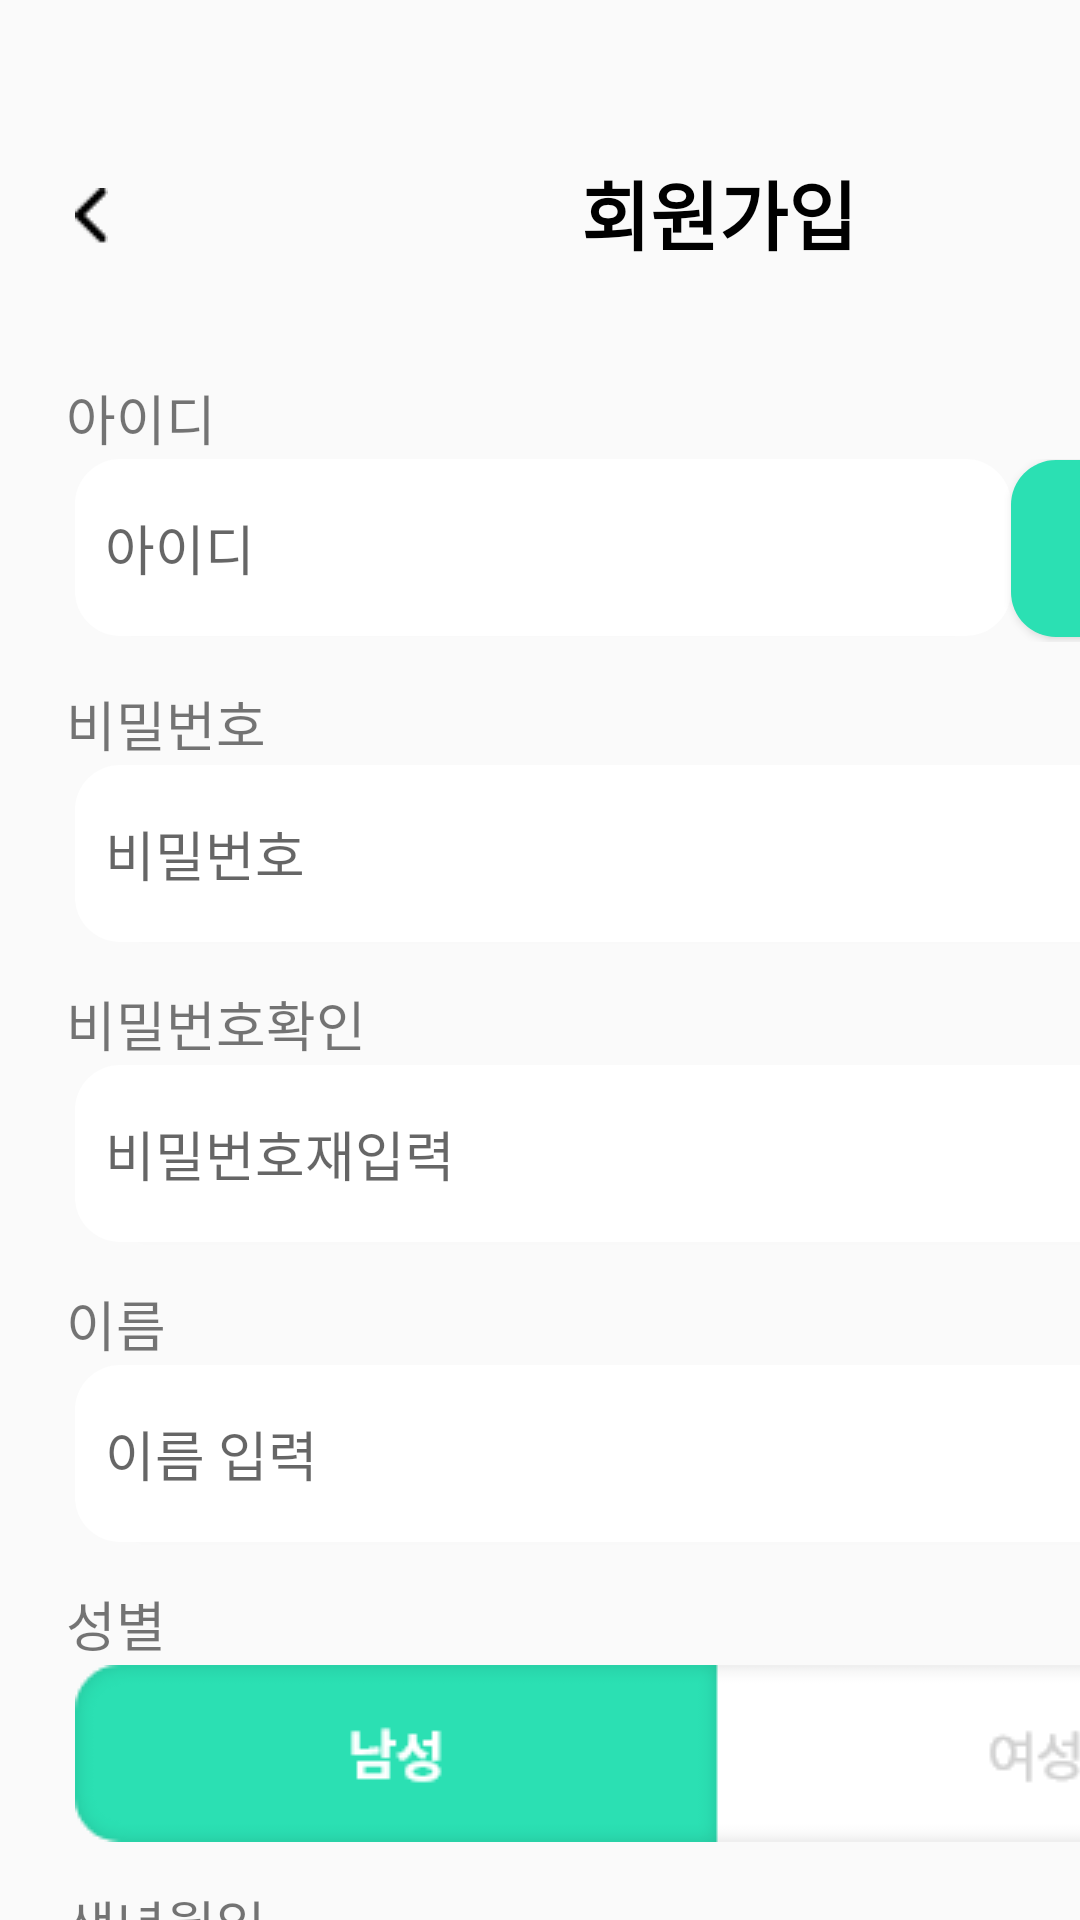

Locate icon controls on the screen. Image size 1080px x 1920px, boxes as [x1, y1, x2, y2].
signup back: [75, 188, 108, 243]
